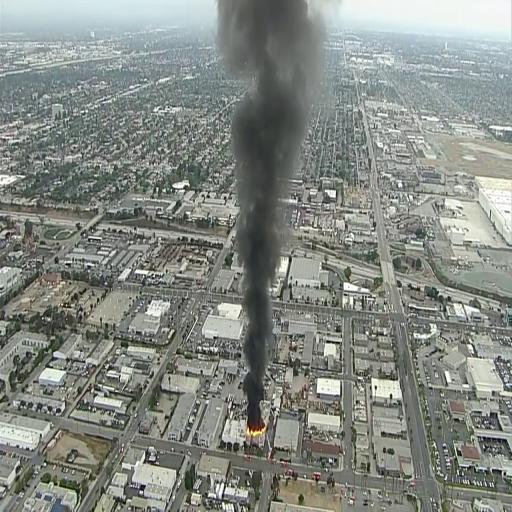smoke: (249, 102, 268, 418)
